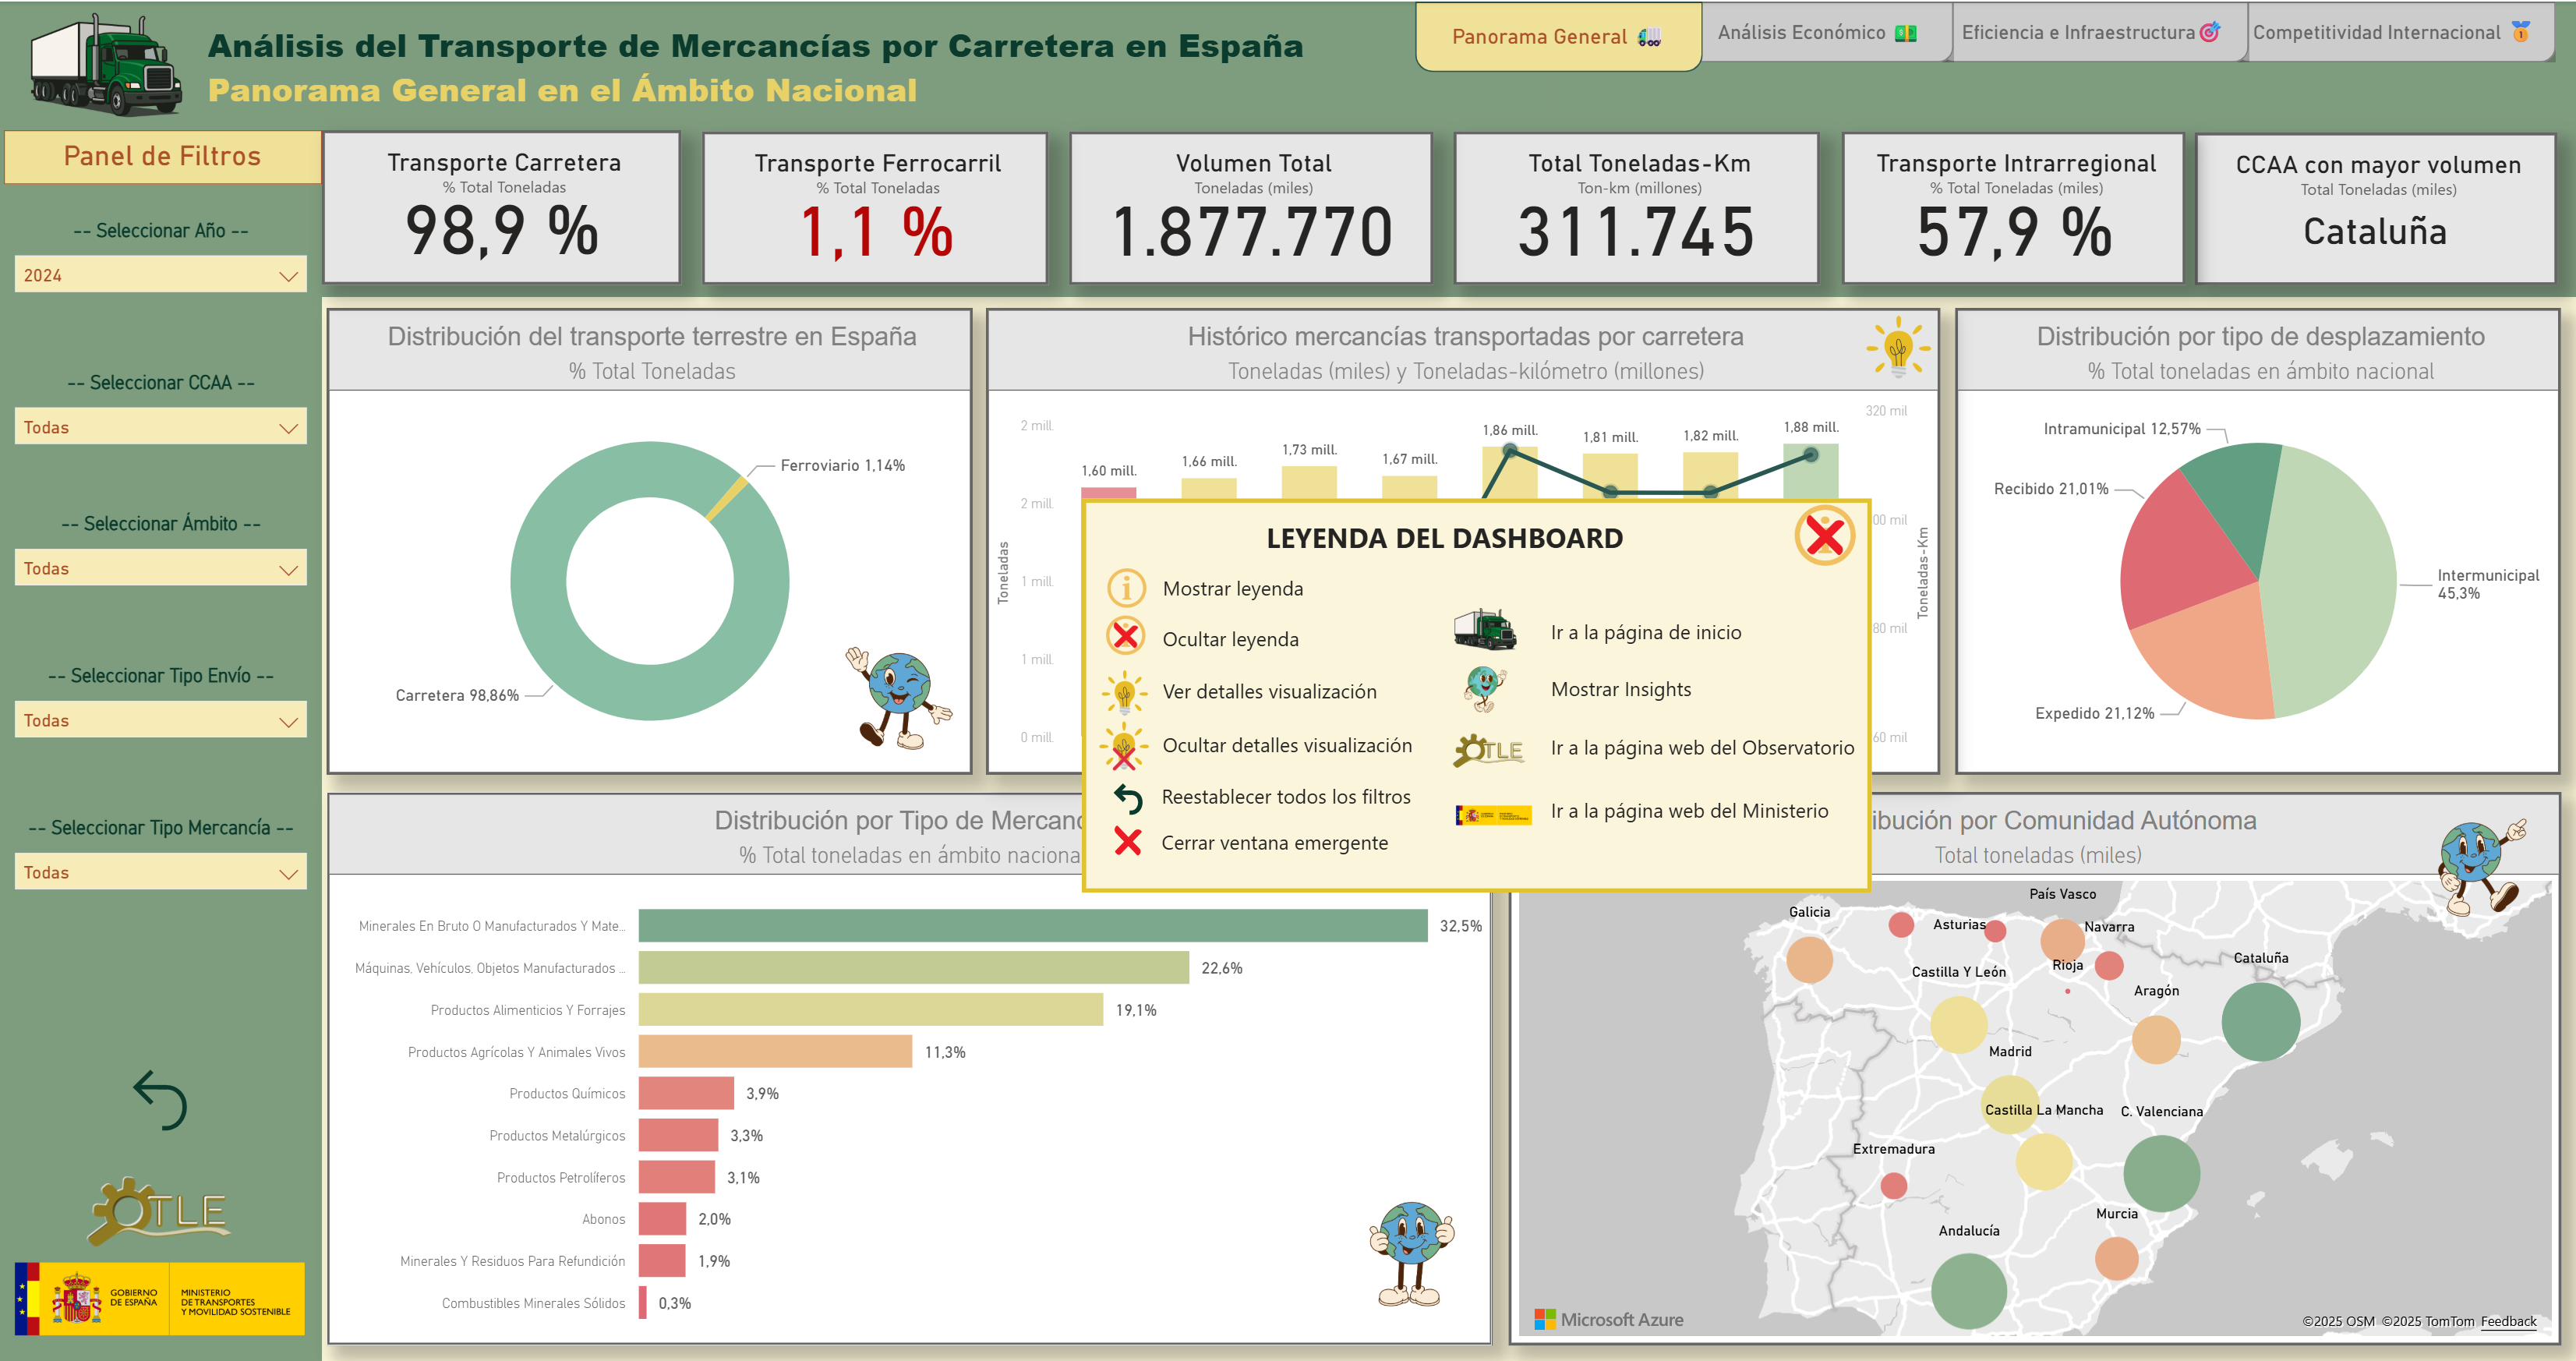

This screenshot's page, from the dashboard's own definition file:
{"tool":"powerbi","page":{"name":"Panorama General","canvas":[1747,920],"ordinal":1},"visuals":[{"type":"group","id":"g1","title":"Panel diseño","box":[0,0,1799.4,919.7],"z":0},{"type":"shape","box":[0,0,1799.4,200.2],"z":0,"group":"g1"},{"type":"lineStackedColumnComboChart","title":"Histórico mercancías transportadas por carretera","fields":{"Category":["Año Dim.Año"],"Y2":["Medidas.Total Ton-km (miles millones)"],"Y":["Medidas.Total Toneladas (miles de millones)"]},"box":[667.9,207.3,645.9,315.9],"z":0,"group":"g2"},{"type":"shape","box":[0,81.2,218.5,838.5],"z":1000,"group":"g1"},{"type":"cardVisual","title":"Total Toneladas-Km","fields":{"Data":["Medidas.Total Tone-km (millones)"]},"box":[984.6,87.9,248.2,104.2],"z":1000},{"type":"image","box":[1257.8,204.6,55.1,57.6],"z":1000,"group":"g2"},{"type":"textbox","box":[135.8,8.5,918.5,77.3],"z":2000,"group":"g1"},{"type":"cardVisual","title":"Volumen Total","fields":{"Data":["Medidas.Total Toneladas(miles)"]},"box":[724.1,88.1,246.4,104],"z":2000},{"type":"slicer","title":"-- Seleccionar Año --","fields":{"Values":["Año Dim.Año"]},"box":[0.9,146.8,217.6,63.9],"z":3000},{"type":"slicer","title":"-- Seleccionar CCAA --","fields":{"Values":["CCAA Dim.CCAA"]},"box":[0.8,250,217.6,56.3],"z":4000},{"type":"slicer","title":"-- Seleccionar Ámbito --","fields":{"Values":["Tipo Envio Dim.Ámbito"]},"box":[0.9,345.5,217.6,63.9],"z":5000},{"type":"slicer","title":"-- Seleccionar Tipo Envío --","fields":{"Values":["Tipo Envio Dim.Tipo Envío"]},"box":[0.9,448.7,217.6,63.9],"z":6000},{"type":"textbox","box":[3.2,87,215.2,36.4],"z":7000},{"type":"donutChart","title":"Distribución del transporte terrestre en España","fields":{"Y":["Medidas.Total Toneladas Modo (miles de millones)"],"Series":["C0519 Transporte Modo - Ambito.Modo Transporte"]},"box":[221.8,207.2,437.2,315.7],"z":8000},{"type":"pieChart","title":"Distribución por tipo de desplazamiento","fields":{"Category":["Dim Tipo Envio.Tipo Envío"],"Y":["Medidas.Total Toneladas (miles de millones)"]},"box":[1323.9,207.5,410.2,315.9],"z":9000},{"type":"clusteredBarChart","title":"Distribución por Tipo de Mercancía","fields":{"Category":["C0280 Tráfico Total.Tipo Mercancía"],"Y":["Medidas General.Total Toneladas (miles)"]},"box":[221.6,534.7,789.3,374.4],"z":10000},{"type":"cardVisual","title":"Transporte Carretera","fields":{"Data":["Medidas.% Ton Carretera","Medidas.% Ton Carretera"]},"box":[218.1,87.2,243.1,104.9],"z":11000},{"type":"cardVisual","title":"Transporte Ferrocarril","fields":{"Data":["Medidas.% Ton Tren"]},"box":[475.3,87.9,234.6,104.2],"z":12000},{"type":"cardVisual","title":"CCAA con mayor volumen","fields":{"Data":["Min(Dim CCAA.CCAA)"]},"box":[1486.3,88.2,245.3,103.6],"z":13000},{"type":"cardVisual","title":"Transporte Intrarregional","fields":{"Data":["Medidas General.% Ton Intrarregional"]},"box":[1247,87.9,232.8,104.2],"z":14000},{"type":"slicer","title":"-- Seleccionar Tipo Mercancía --","fields":{"Values":["C0280 Tráfico Total.Tipo Mercancía"]},"box":[0.9,551.8,217.6,63],"z":16000},{"type":"azureMap","title":"Distribución por Comunidad Autónoma","fields":{"Size":["Medidas.Total Toneladas (miles de millones)"],"Category":["Dim CCAA.CCAA"]},"box":[1021.2,534.7,712.9,374.4],"z":17000},{"type":"shape","box":[1512.6,0,218.2,41.2],"z":18000},{"type":"image","box":[4,846.7,208.9,62.5],"z":19000},{"type":"image","box":[3.6,789.6,208.6,57.6],"z":20000},{"type":"shape","box":[1313.1,0,209.8,41.2],"z":21000},{"type":"shape","box":[1140.7,0,181.7,41.2],"z":22000},{"type":"actionButton","box":[82.4,715.5,53.4,56.2],"z":23000},{"type":"shape","box":[958.1,0,194.8,47.8],"z":24000},{"type":"image","box":[4,2.4,136.9,80.7],"z":25000},{"type":"image","box":[76.8,629.4,64.6,66.5],"z":26000},{"type":"image","box":[567.7,430.9,83,81.1],"z":27000},{"type":"image","box":[921.9,804.7,68.8,83.9],"z":28000},{"type":"image","box":[1645.2,545.5,71,83.6],"z":29000},{"type":"group","id":"g2","title":"Viz 1","box":[667.9,204.6,645.9,318.6],"z":30000}]}

Visuals, with their boxes in screenshot pixels (x1, y1, x2, y2), scaled from the page's 1747x920 canvas onto the 2576x1361 screenshot:
"Panel diseño" group: (x1=0, y1=0, x2=2575, y2=1360)
shape: (x1=0, y1=0, x2=2575, y2=296)
"Histórico mercancías transportadas por carretera" lineStackedColumnComboChart: (x1=985, y1=306, x2=1937, y2=774)
shape: (x1=0, y1=120, x2=322, y2=1360)
"Total Toneladas-Km" cardVisual: (x1=1452, y1=130, x2=1818, y2=285)
image: (x1=1855, y1=302, x2=1936, y2=388)
textbox: (x1=200, y1=12, x2=1555, y2=127)
"Volumen Total" cardVisual: (x1=1068, y1=130, x2=1431, y2=285)
"-- Seleccionar Año --" slicer: (x1=2, y1=217, x2=322, y2=312)
"-- Seleccionar CCAA --" slicer: (x1=2, y1=369, x2=322, y2=453)
"-- Seleccionar Ámbito --" slicer: (x1=2, y1=511, x2=322, y2=606)
"-- Seleccionar Tipo Envío --" slicer: (x1=2, y1=664, x2=322, y2=758)
textbox: (x1=5, y1=129, x2=322, y2=182)
"Distribución del transporte terrestre en España" donutChart: (x1=327, y1=306, x2=972, y2=773)
"Distribución por tipo de desplazamiento" pieChart: (x1=1952, y1=307, x2=2557, y2=774)
"Distribución por Tipo de Mercancía" clusteredBarChart: (x1=327, y1=791, x2=1490, y2=1345)
"Transporte Carretera" cardVisual: (x1=322, y1=129, x2=680, y2=285)
"Transporte Ferrocarril" cardVisual: (x1=701, y1=130, x2=1047, y2=285)
"CCAA con mayor volumen" cardVisual: (x1=2192, y1=130, x2=2553, y2=284)
"Transporte Intrarregional" cardVisual: (x1=1839, y1=130, x2=2182, y2=285)
"-- Seleccionar Tipo Mercancía --" slicer: (x1=2, y1=816, x2=322, y2=910)
"Distribución por Comunidad Autónoma" azureMap: (x1=1506, y1=791, x2=2557, y2=1345)
shape: (x1=2231, y1=0, x2=2552, y2=61)
image: (x1=6, y1=1253, x2=314, y2=1345)
image: (x1=5, y1=1168, x2=313, y2=1253)
shape: (x1=1936, y1=0, x2=2246, y2=61)
shape: (x1=1682, y1=0, x2=1950, y2=61)
actionButton: (x1=122, y1=1059, x2=200, y2=1142)
shape: (x1=1413, y1=0, x2=1700, y2=71)
image: (x1=6, y1=4, x2=208, y2=123)
image: (x1=113, y1=931, x2=209, y2=1030)
image: (x1=837, y1=638, x2=959, y2=758)
image: (x1=1359, y1=1190, x2=1461, y2=1314)
image: (x1=2426, y1=807, x2=2531, y2=931)
"Viz 1" group: (x1=985, y1=302, x2=1937, y2=774)
